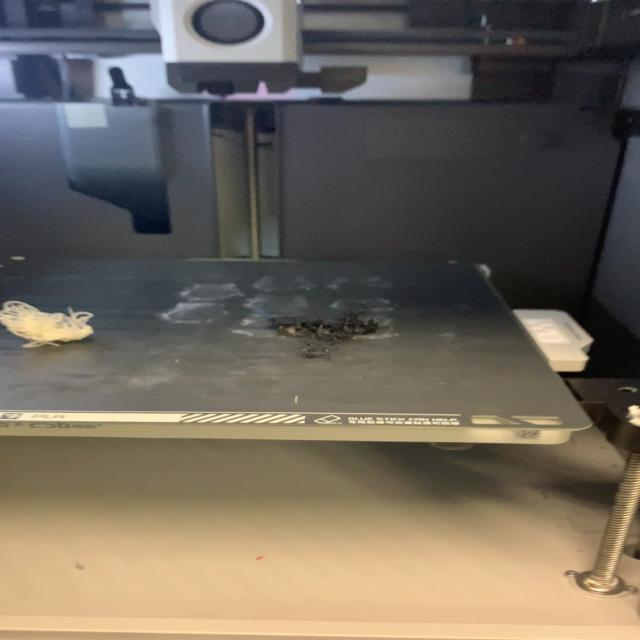spaghetti: (3, 255, 596, 445)
